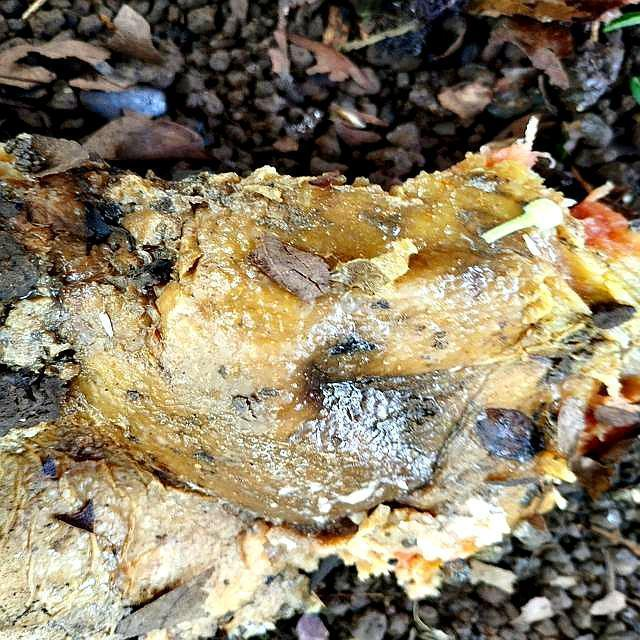Biodegradable: (1, 139, 640, 637)
